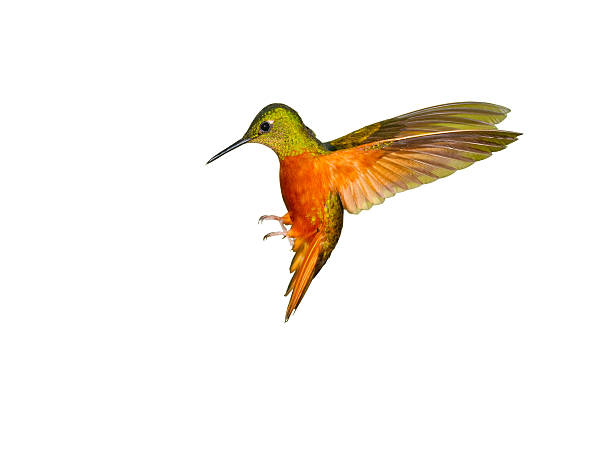Bird: (202, 97, 524, 330)
